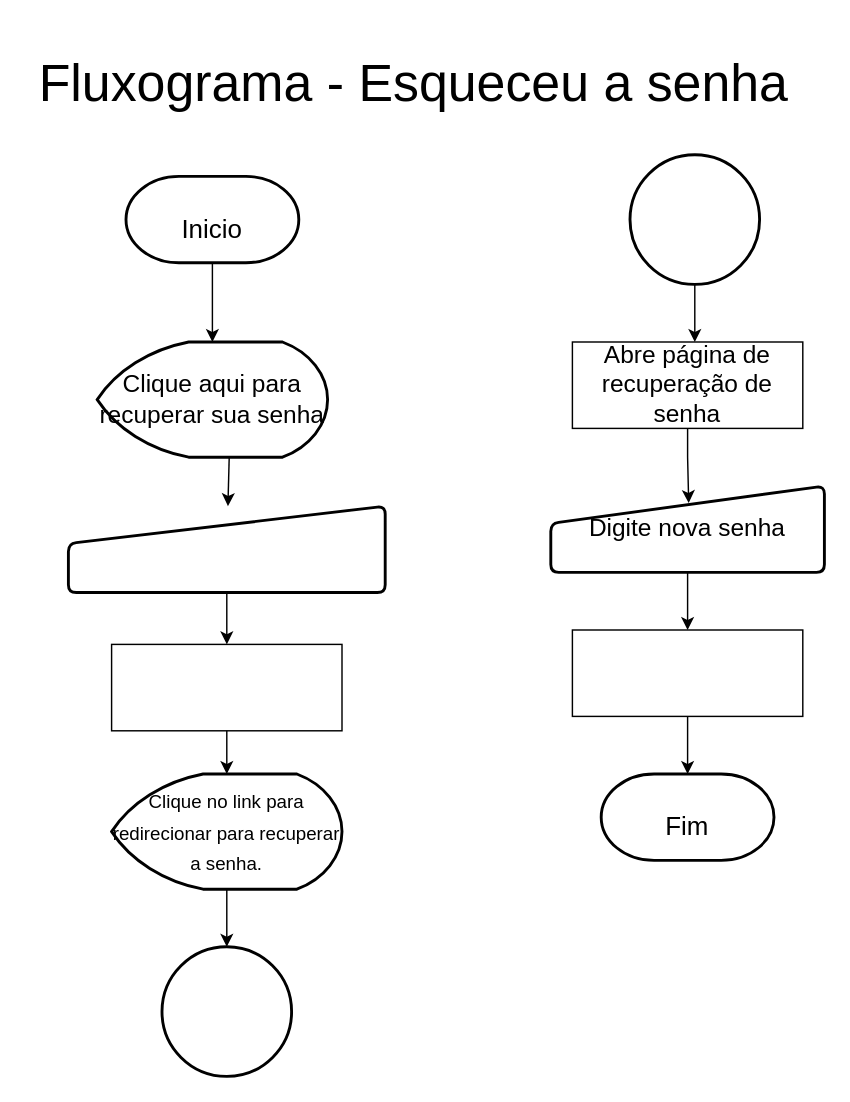
Image size: 850x1102. Some labels were removed from this diagram. Each missing label, with the centre of its shape:
Enviar mensagem para o e-mail do usuário: (x=226, y=687)
Nova senha salva com sucesso.: (x=687, y=672)
Usuário clica em botão: (x=226, y=548)
